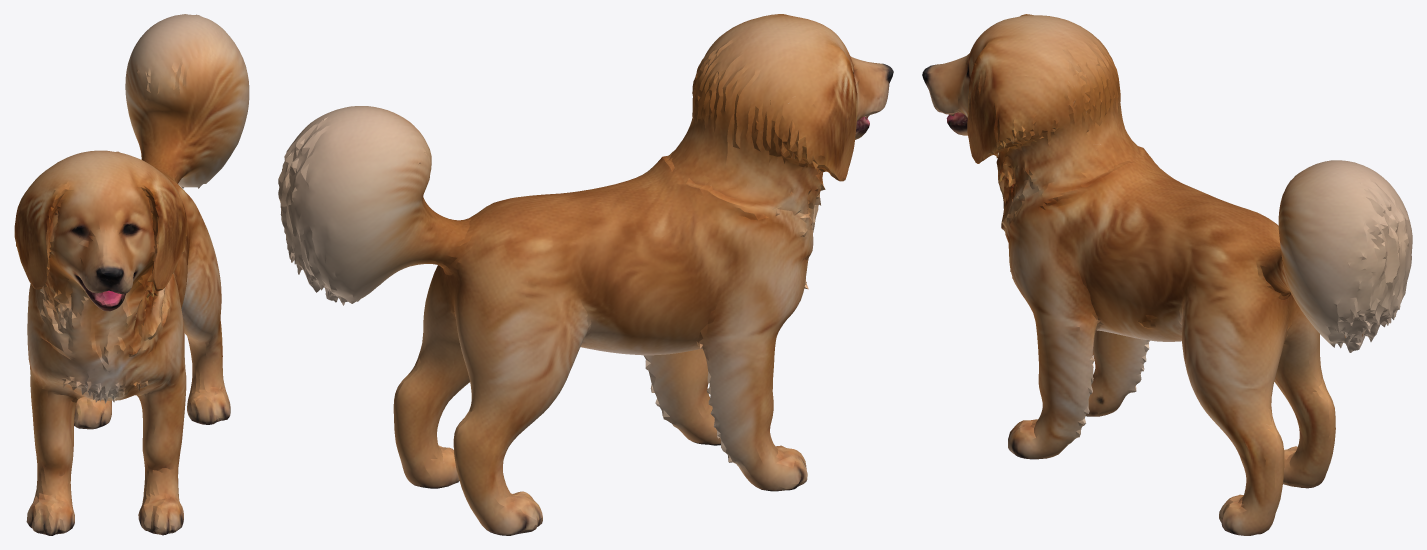
Rendered from puppy-fluffy.glb.
3 views of the same model, side by side, from view 1: azimuth 30°, elevation 25°; view 2: azimuth 150°, elevation 25°; view 3: azimuth 270°, elevation 25° (orthographic). The views are drawn at different scales.
Visible parts, largest first — view 1: model; view 2: model; view 3: model.
Part boxes in pixels (<box>): model: <box>14,14,249,535</box>; model: <box>278,14,893,535</box>; model: <box>922,14,1412,535</box>.
Size of the model in its own units: 1.65 by 1.7 by 1.9.
Materials: 1 (1 with a texture image).
